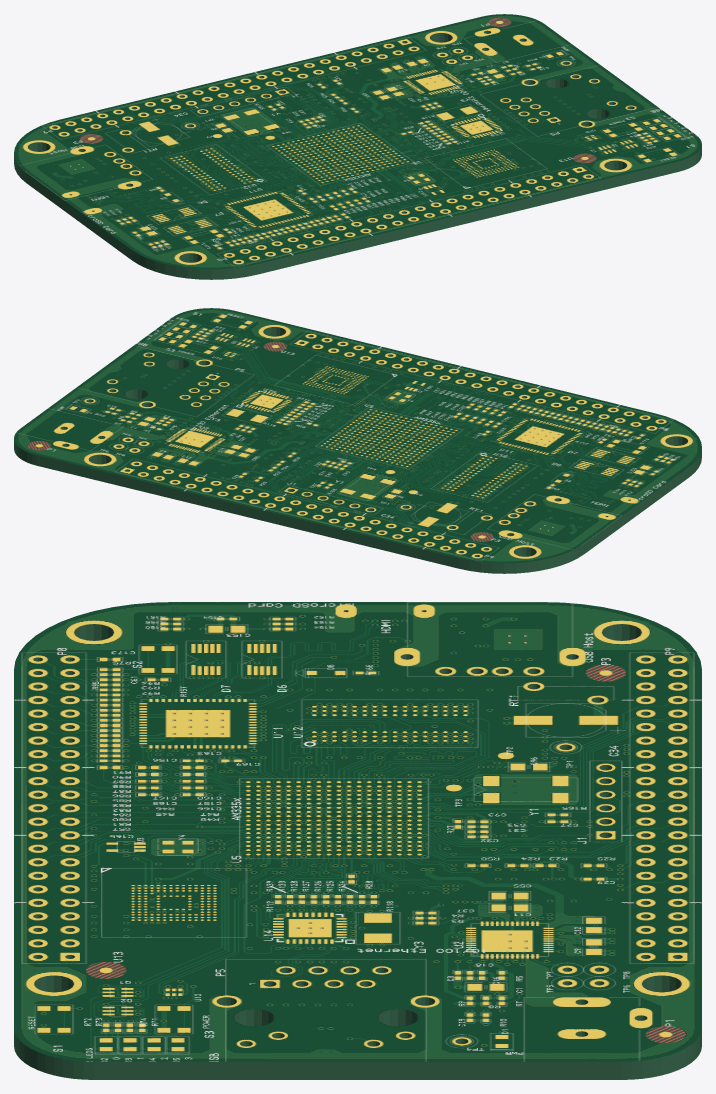
File: full-board.glb
3 renders of one model, top to bottom at view 1: azimuth 30°, elevation 25°; view 2: azimuth 150°, elevation 25°; view 3: azimuth 270°, elevation 25°, orthographic. The views are drawn at different scales.
Visible parts, largest first — view 1: Box0; view 2: Box0; view 3: Box0.
Part boxes in pixels (box(x1,y1,x2,y2)): Box0: box(14, 14, 701, 279); Box0: box(14, 308, 701, 573); Box0: box(14, 602, 701, 1079).
Bounding box in the file's own units: 86.39 × 1.6 × 54.64.
4 materials, 2 textured.
